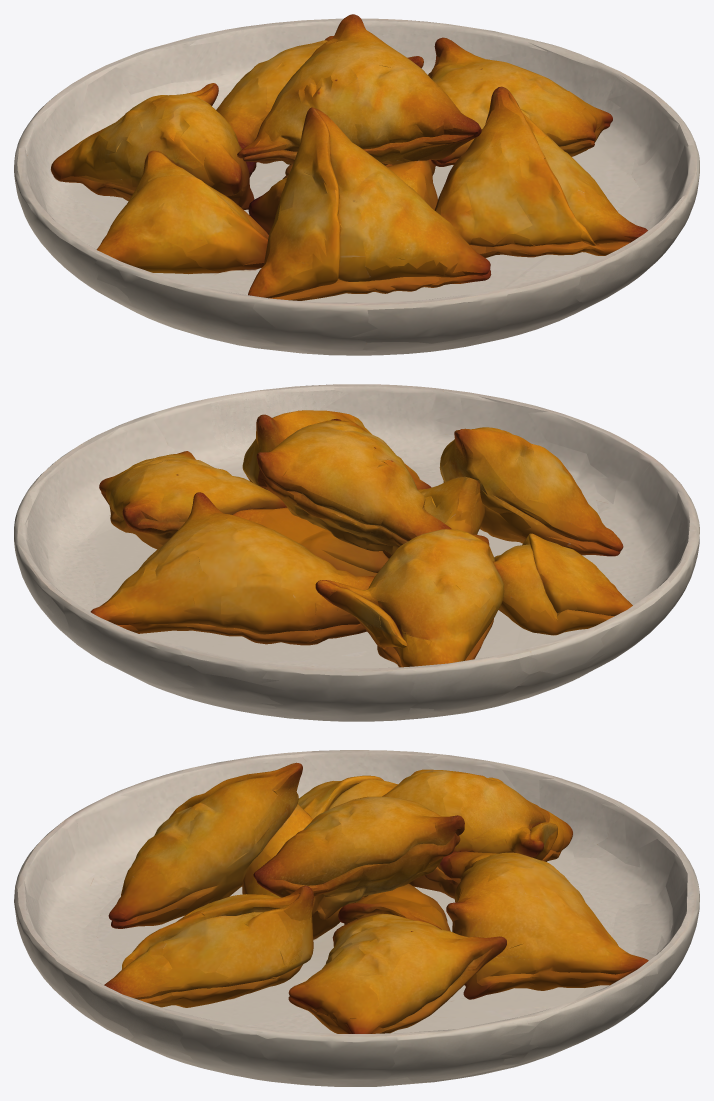
Rendered from samosa-1169d5.glb.
The picture shows the model from 3 angles, top to bottom: view 1: azimuth 30°, elevation 25°; view 2: azimuth 150°, elevation 25°; view 3: azimuth 270°, elevation 25°; orthographic projection.
Parts seen in each view (by area): view 1: Mesh_0; view 2: Mesh_0; view 3: Mesh_0.
Boxes of the visible parts, bbox=[...] form: Mesh_0: bbox=[14, 14, 699, 355]; Mesh_0: bbox=[14, 384, 699, 721]; Mesh_0: bbox=[14, 750, 699, 1086].
Bounding box in the file's own units: 1.9 × 0.527 × 1.9.
Materials: 1 (1 with a texture image).
